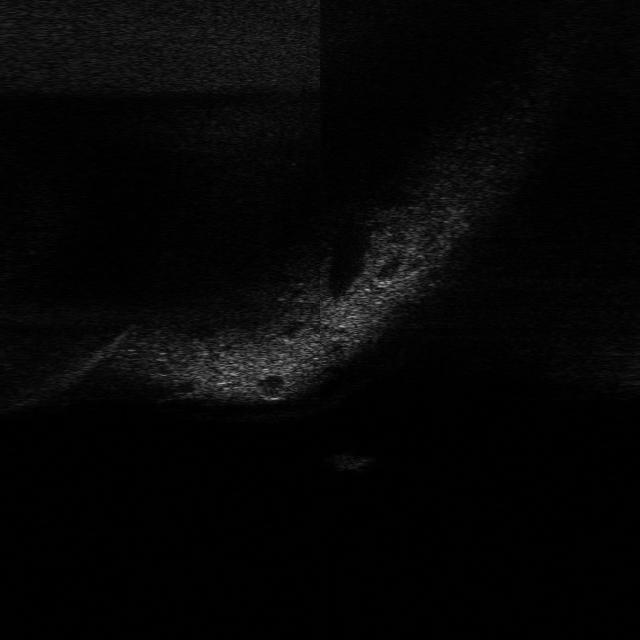cube: (324, 453, 374, 474)
